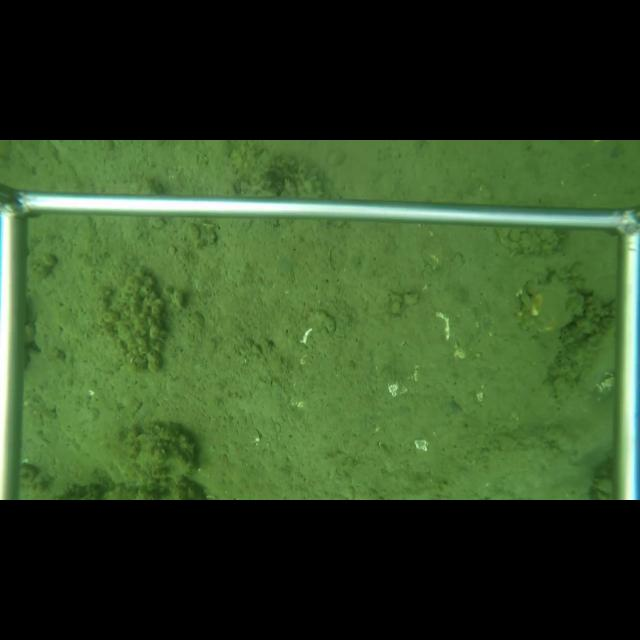Oyster-Closed: (520, 276, 589, 338)
